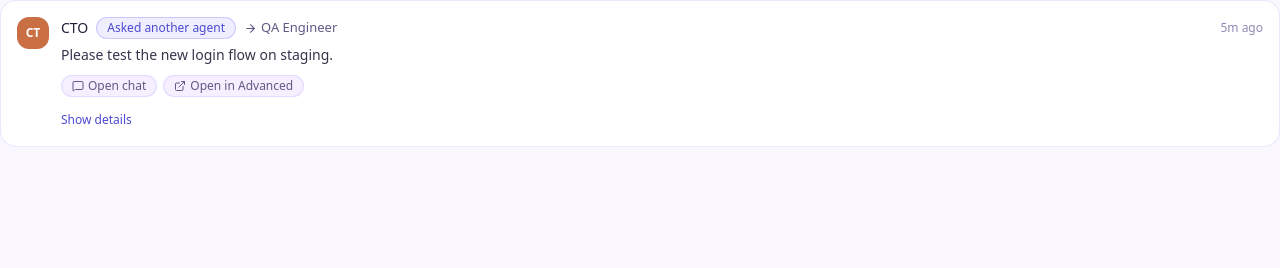
ActivityCard › keeps raw detail JSON behind the Show details disclosure
Expected: the text "child_task_id" is not shown
Click the button "Show details" at (96, 120), box [61, 112, 132, 128]
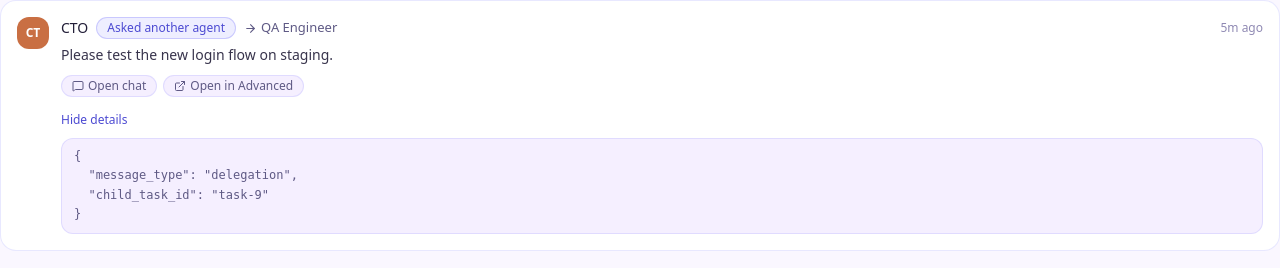
Now the text "{ \"message_type\": \"delegation\", \"child_task_id\": \"task-9\" }" is shown, box [61, 138, 1263, 234]
Now the button "Hide details" is shown, box [61, 112, 127, 128]
